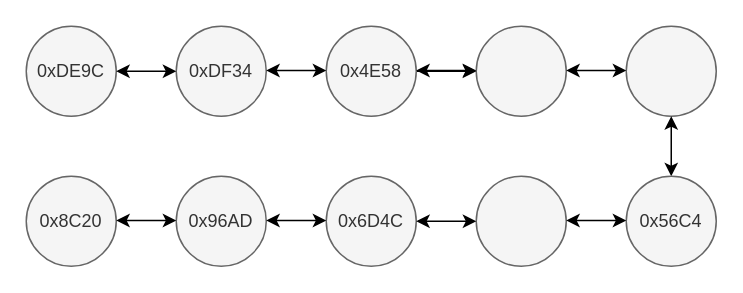
Image size: 743x293. Some labels were removed from this diagram. The centre of each missing label's shape, as x and y in pixels:
"0x5728" belongs at point (520, 70).
"0x62D8" belongs at point (520, 220).
"0x9234" belongs at point (670, 70).
